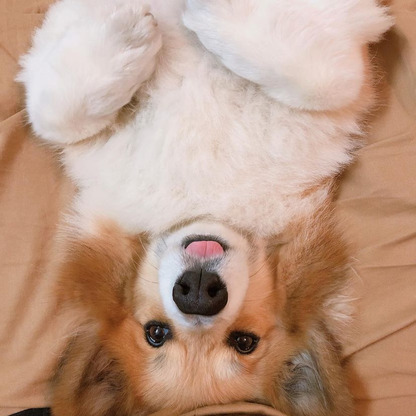Corgi: (16, 11, 406, 408)
